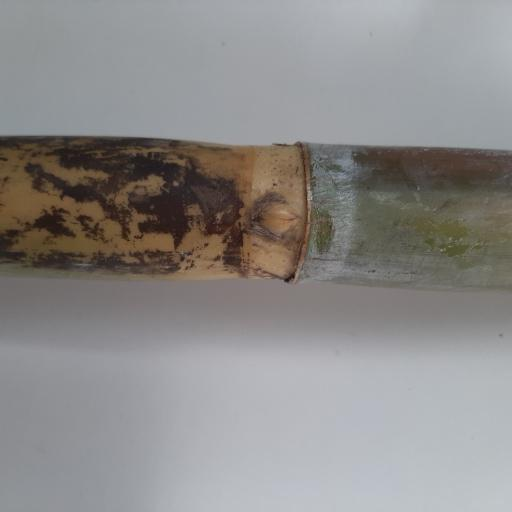Bud: (253, 200, 303, 236)
